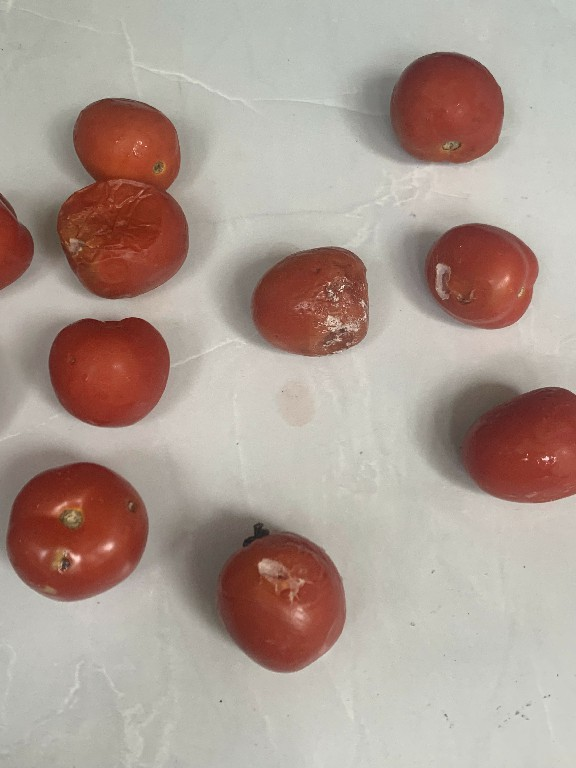NG: (3, 454, 159, 604), (212, 520, 349, 680), (49, 172, 194, 305), (234, 237, 376, 362), (422, 214, 541, 334)
OK: (378, 45, 516, 177), (456, 380, 576, 518), (44, 314, 176, 434), (58, 81, 185, 196)
